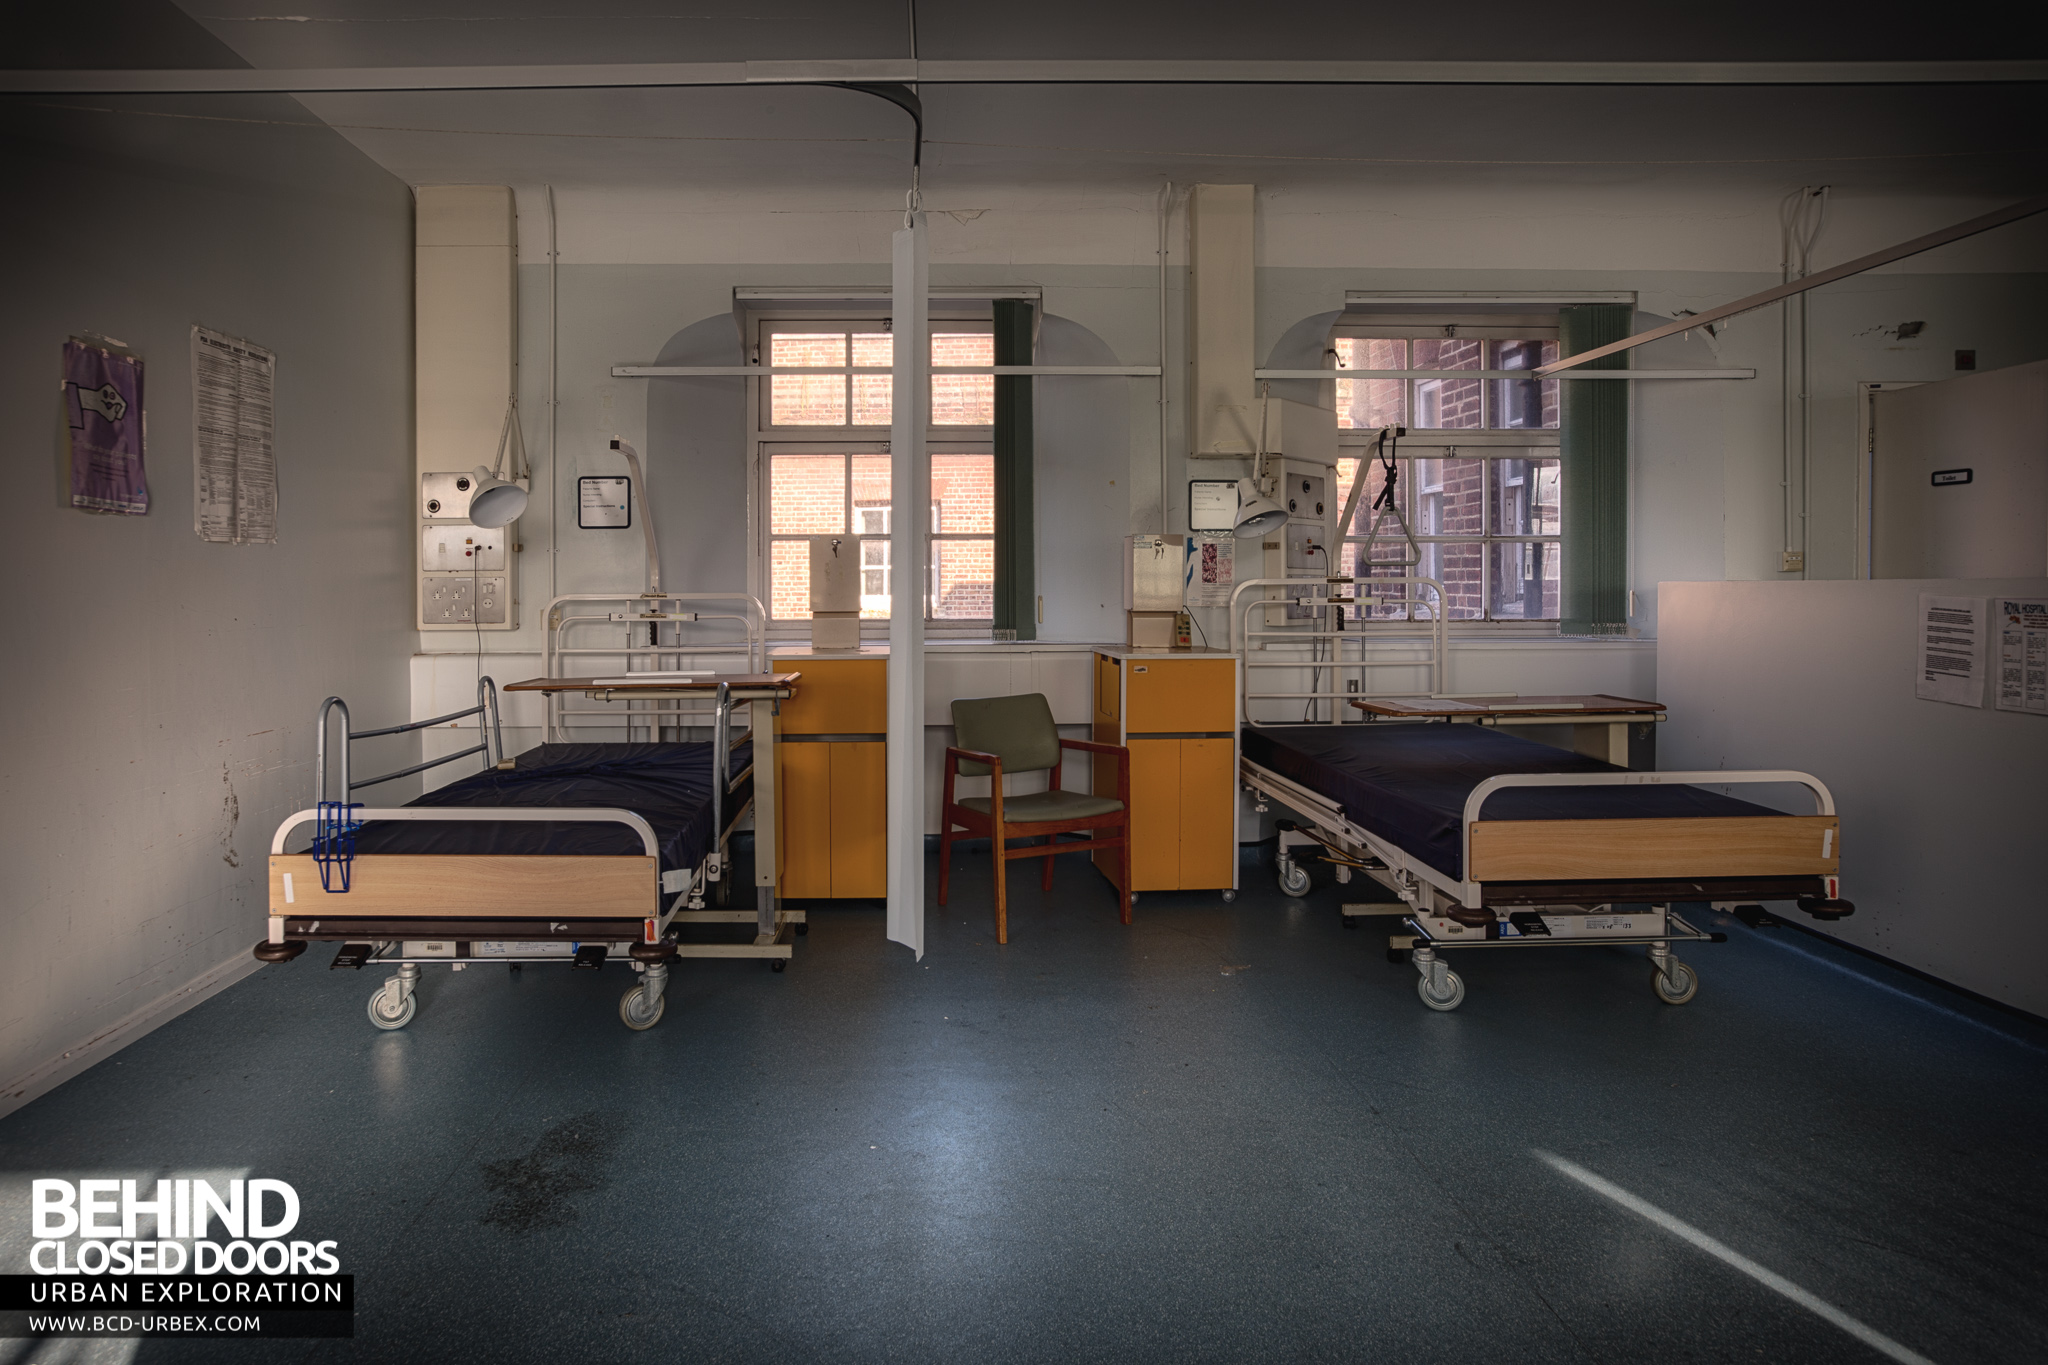hospital bed: (1232, 660, 1881, 932), (260, 672, 748, 964)
